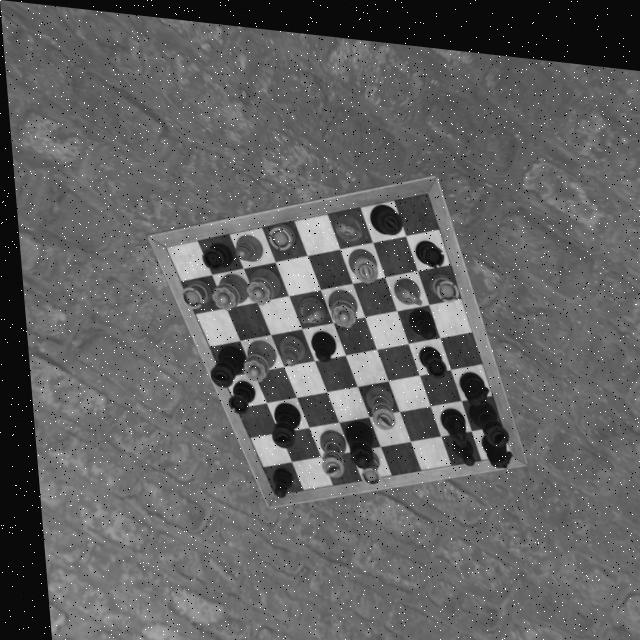chessboard: (162, 183, 505, 491)
